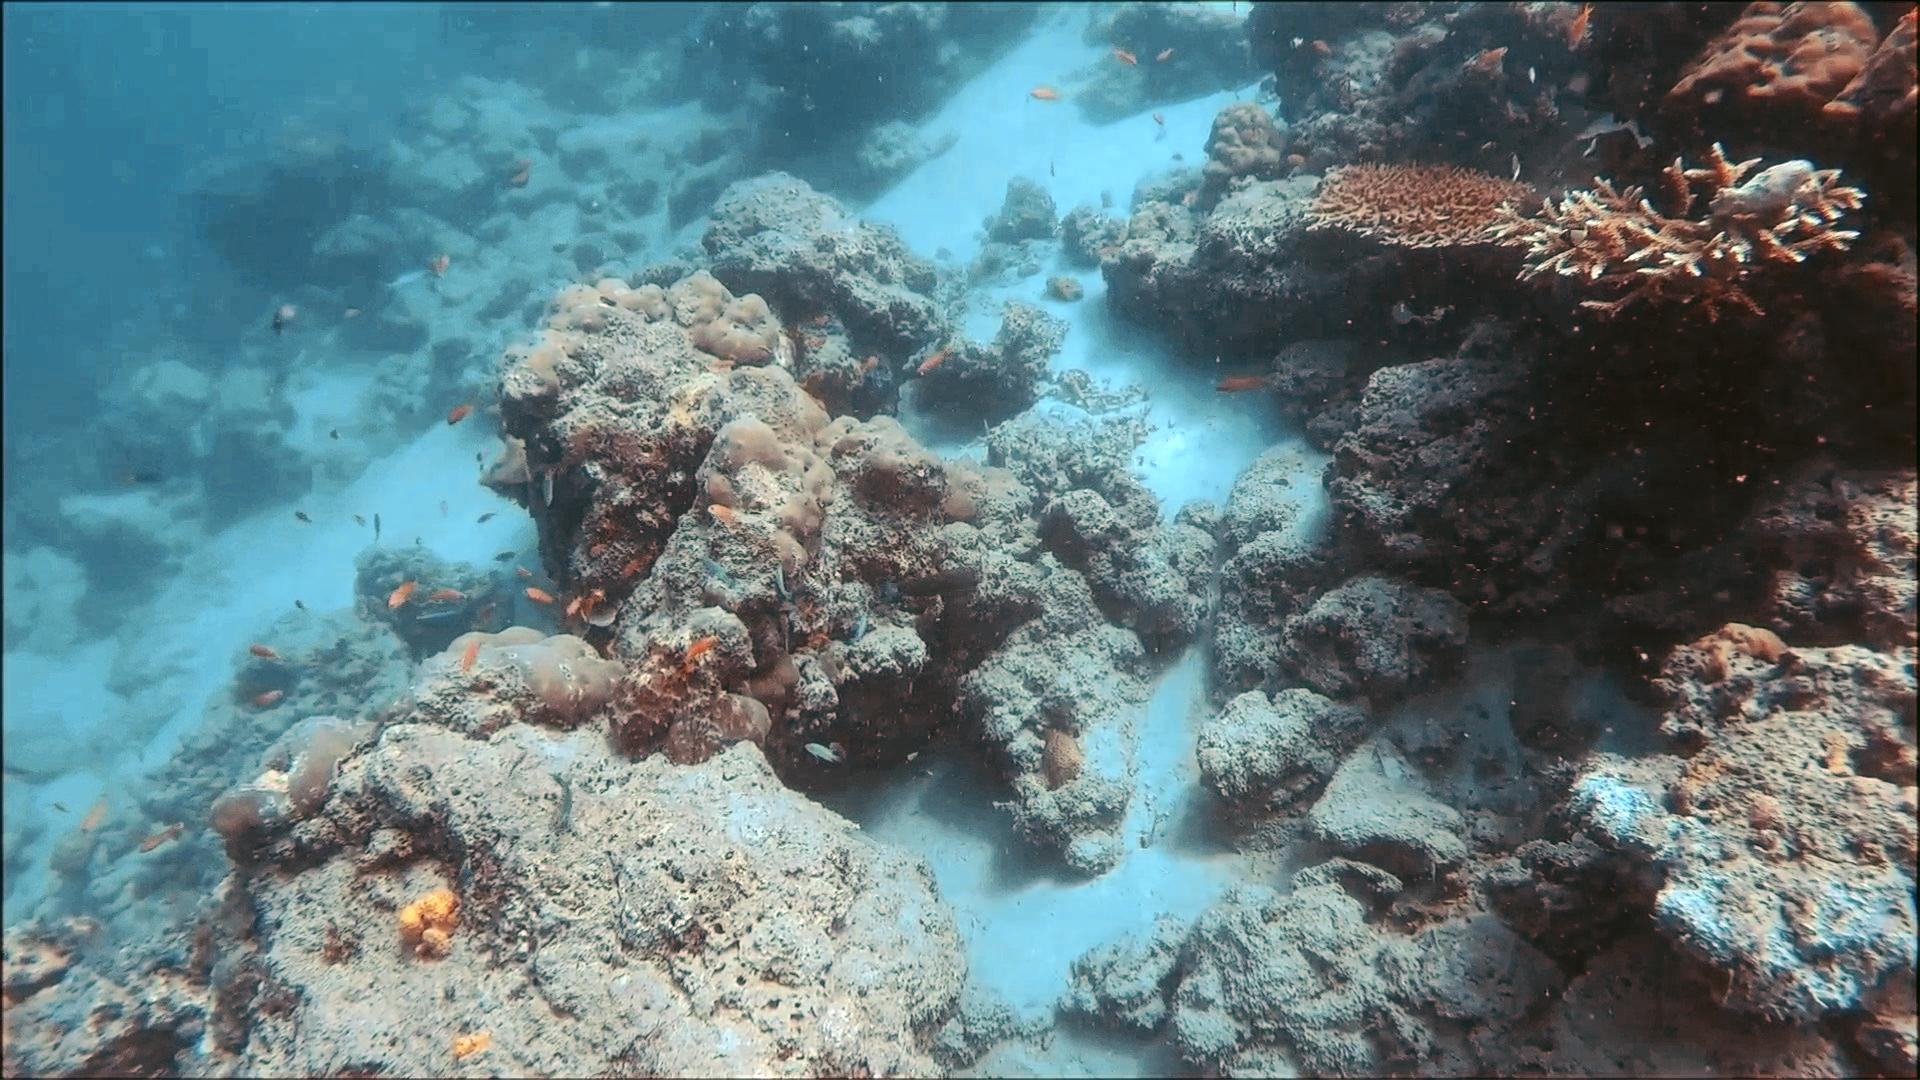Porites-Porites pukoensis: (630, 265, 865, 587)
